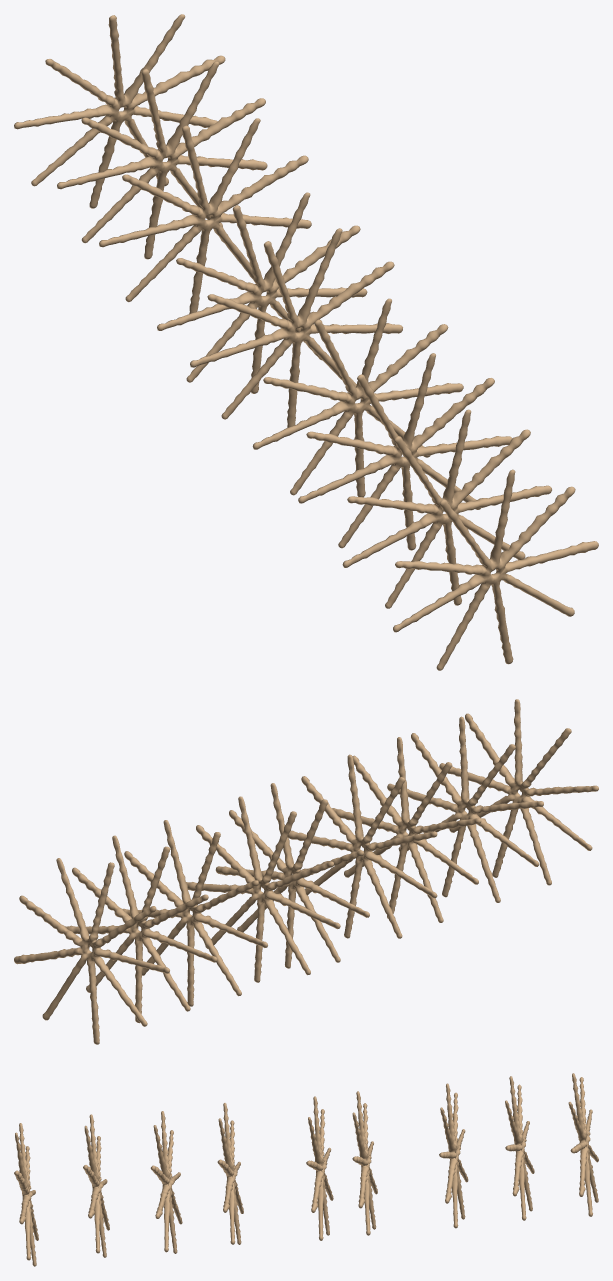
The model's file is centriole2.fbx.
3 views of the same model, one above another, from view 1: azimuth 30°, elevation 25°; view 2: azimuth 150°, elevation 25°; view 3: azimuth 270°, elevation 25° (orthographic). The views are drawn at different scales.
Visible parts, largest first — view 1: Centriole_2; view 2: Centriole_2; view 3: Centriole_2.
Part boxes in pixels (x1,y1,x2,y2): Centriole_2: (14,14,598,670); Centriole_2: (14,699,598,1044); Centriole_2: (14,1073,598,1266).
Bounding box in the file's own units: 95.04 × 111 × 290.
